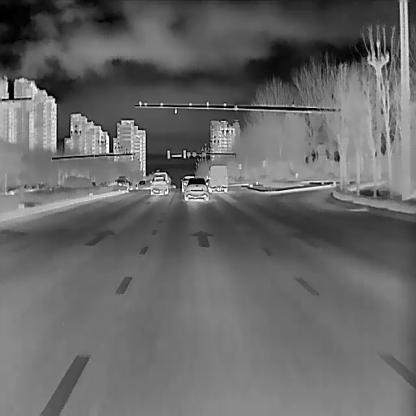car: (181, 176, 209, 200), (206, 163, 228, 192), (149, 175, 169, 195), (138, 180, 146, 190)
truck: (114, 174, 132, 190)
